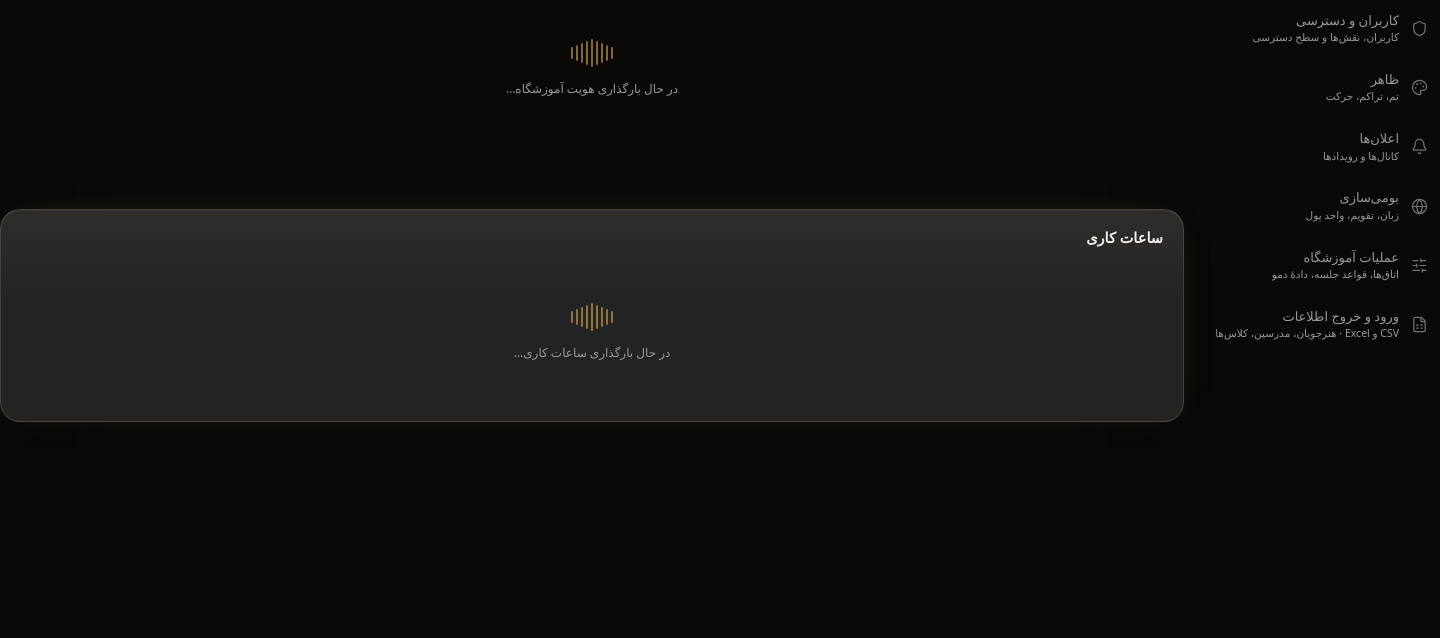
Test: colours typed by hand › accepts shorthand and expands it, so one shape is stored
Click the button "ظاهر تم، تراکم، حرکت" at (1320,88), box [1200, 60, 1439, 115]
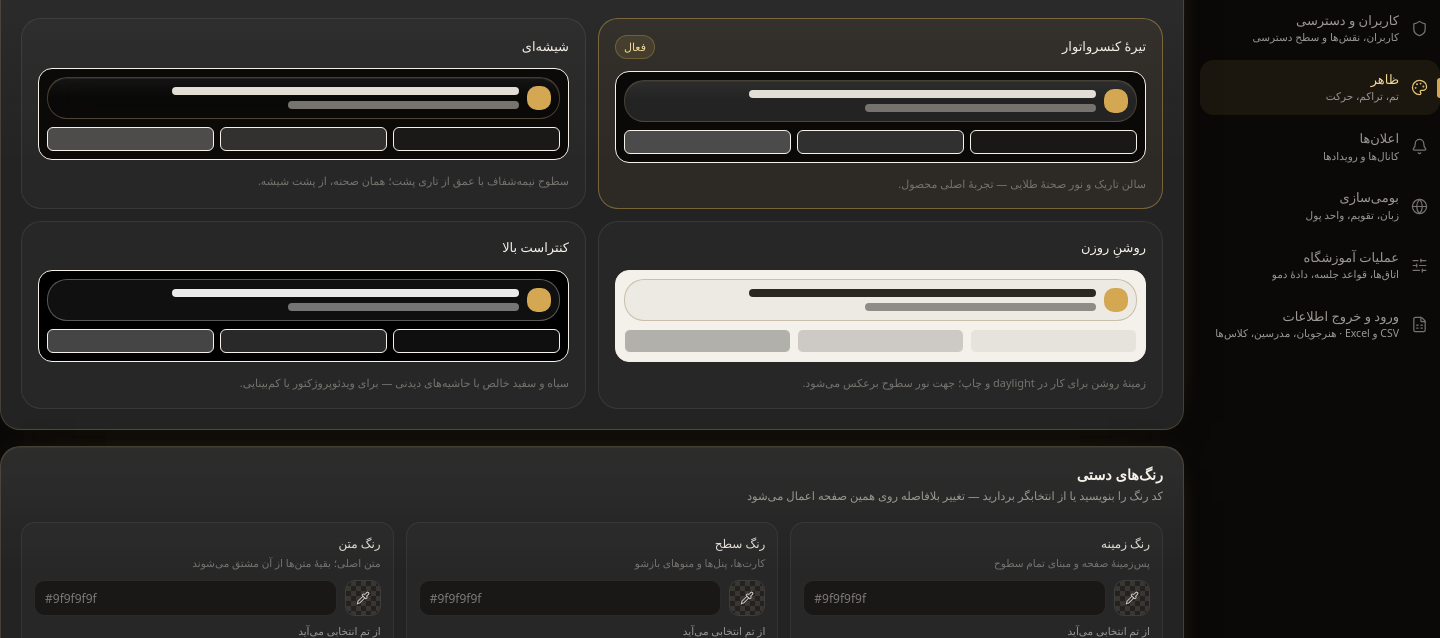
Type "#abc" into the field named "رنگ متن" at (185,598), box [34, 580, 337, 616]
(page scrolled)
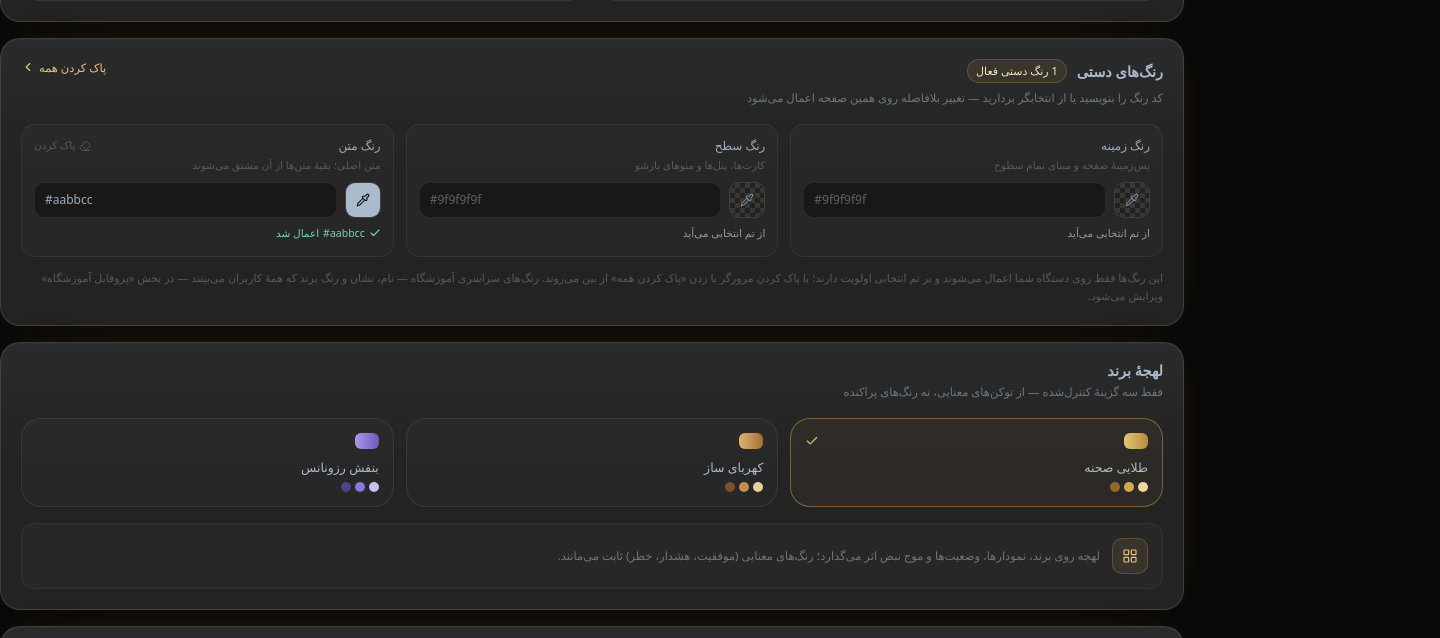
Expected: the text "#aabbcc" is shown, [323, 226, 365, 241]
